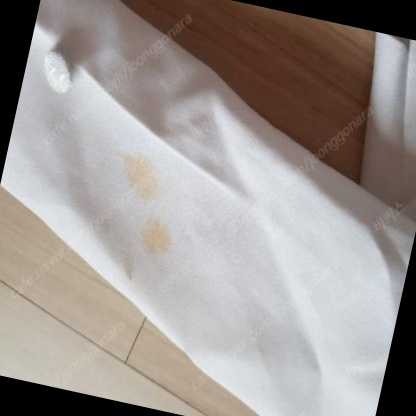kimchi: (109, 146, 164, 206), (136, 221, 174, 263)
